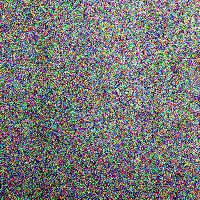pitted_surface: (62, 1, 197, 185)
